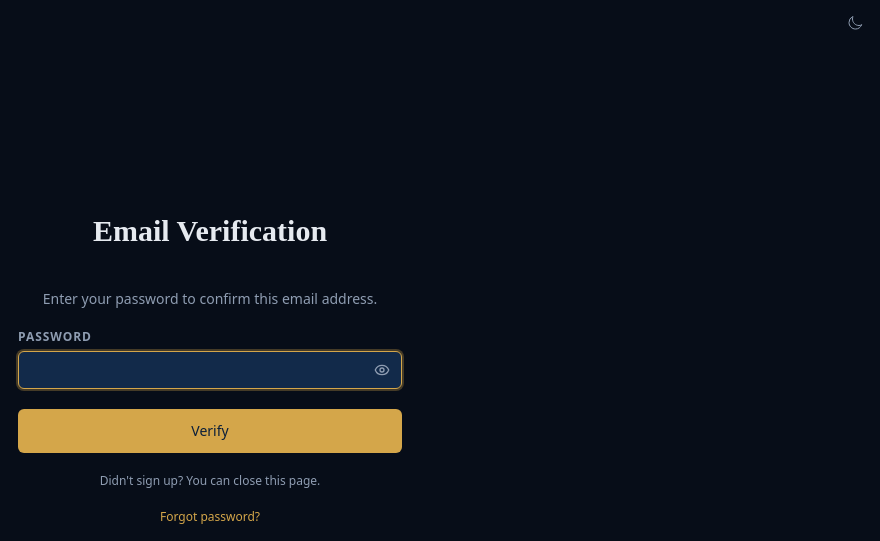
Test case: verify-email page, password confirmation › submit posts {token, password} and shows success
Type "hunter2hunter2" into the password field labelled "Password". click: (210, 370)
box: [18,351,402,389]
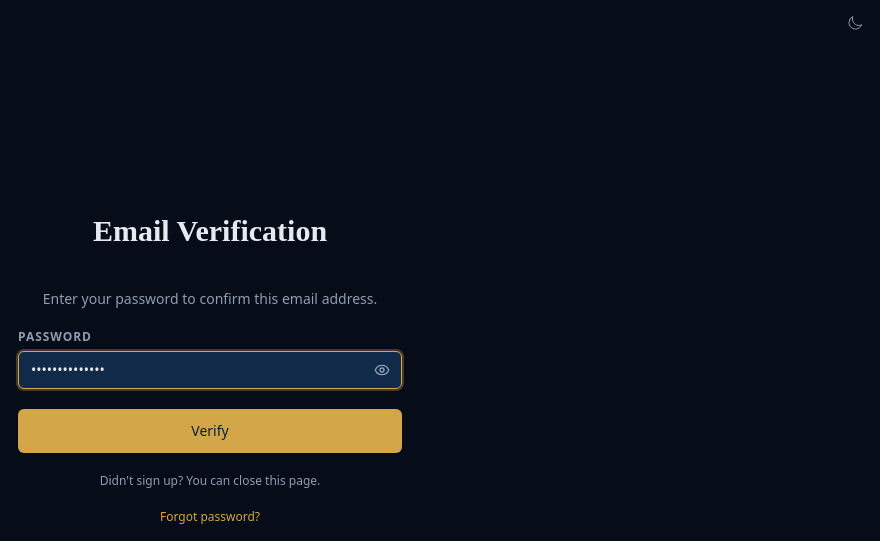
Click the button "Verify". click: click(210, 431)
box: [18,409,402,453]
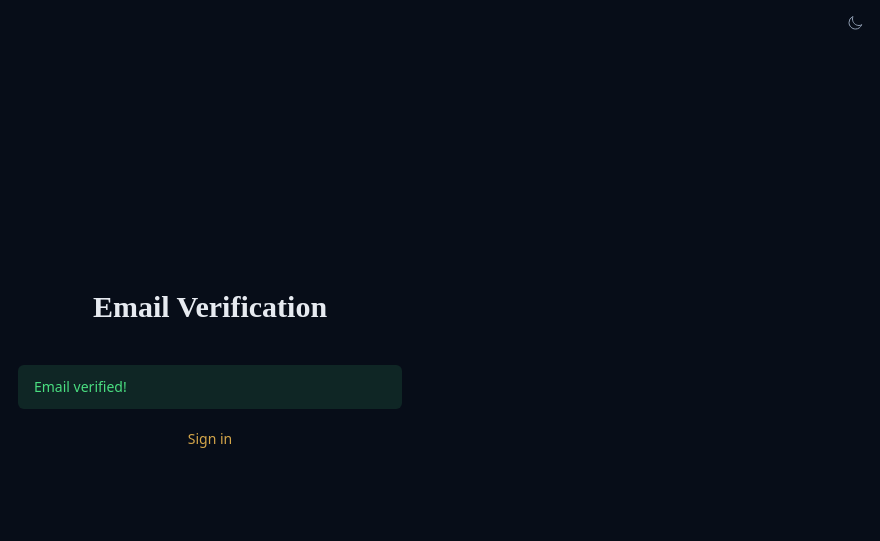
Check: the text "Email verified!" is shown, box [18,365,402,409]
